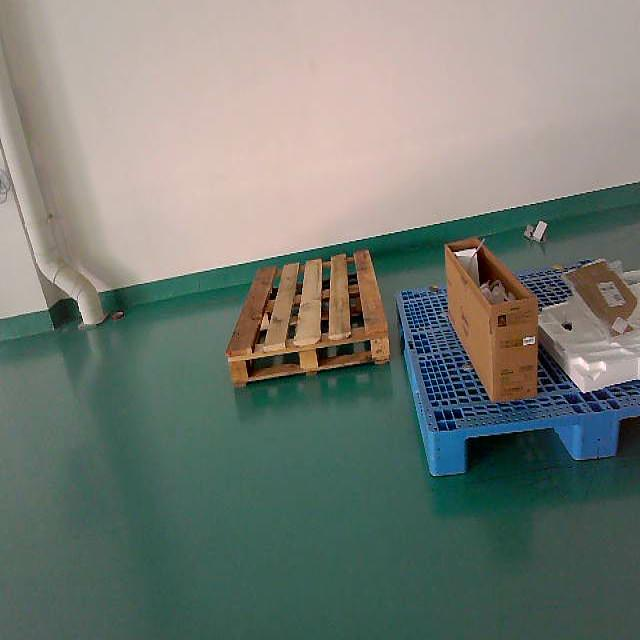euro: (225, 248, 390, 389)
